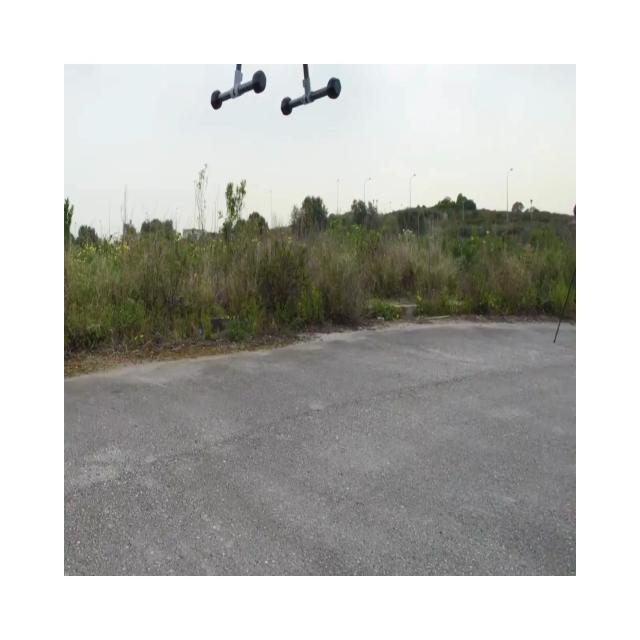drone: (210, 63, 341, 116)
